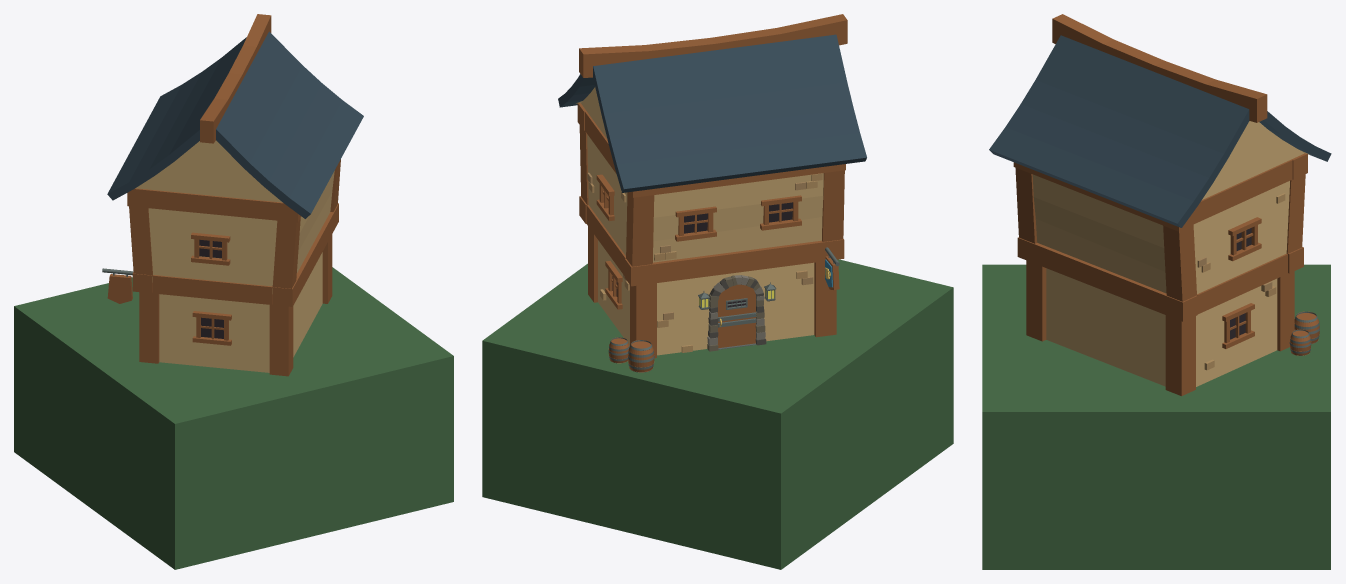
File: Tavern.glb
3 views of the same model, side by side, from view 1: azimuth 30°, elevation 25°; view 2: azimuth 150°, elevation 25°; view 3: azimuth 270°, elevation 25° (orthographic). The views are drawn at different scales.
Visible parts, largest first — view 1: tile, Cube.059, Cube.055, Cube, Cube.001, Cube.056, Cube.057, Cube.060, Cube.002, Cube.003, Cube.058, Cube.063; view 2: tile, Cube.059, Cube.055, Cube, Cube.003, Cube.060, Cube.056, Cube.001, Cube.004, Cube.058, Cube.002, Cube.094 (+3 smaller); view 3: tile, Cube.059, Cube.055, Cube, Cube.001, Cube.056, Cube.003, Cube.060, Cube.057, Cube.002, Cube.058.
Part boxes in pixels (left/top/right/bottom): tile: left=14, top=267, right=453, bottom=569; Cube.059: left=107, top=31, right=363, bottom=218; Cube.055: left=136, top=140, right=334, bottom=293; Cube: left=159, top=252, right=322, bottom=372; Cube.001: left=139, top=234, right=332, bottom=376; Cube.056: left=129, top=159, right=340, bottom=288; Cube.057: left=146, top=189, right=278, bottom=220; Cube.060: left=200, top=14, right=271, bottom=143; Cube.002: left=153, top=275, right=272, bottom=304; Cube.003: left=132, top=203, right=338, bottom=306; Cube.058: left=127, top=188, right=301, bottom=222; Cube.063: left=107, top=273, right=132, bottom=303; tile: left=482, top=259, right=953, bottom=569; Cube.059: left=558, top=34, right=866, bottom=192; Cube.055: left=576, top=87, right=823, bottom=262; Cube: left=598, top=240, right=814, bottom=355; Cube.003: left=579, top=196, right=844, bottom=286; Cube.060: left=579, top=14, right=847, bottom=77; Cube.056: left=579, top=125, right=844, bottom=266; Cube.001: left=588, top=226, right=836, bottom=358; Cube.004: left=717, top=284, right=755, bottom=348; Cube.058: left=577, top=103, right=845, bottom=197; Cube.002: left=586, top=205, right=625, bottom=275; Cube.094: left=684, top=202, right=792, bottom=233; tile: left=982, top=264, right=1330, bottom=569; Cube.059: left=989, top=35, right=1331, bottom=227; Cube.055: left=1032, top=121, right=1309, bottom=293; Cube: left=1046, top=268, right=1277, bottom=386; Cube.001: left=1026, top=260, right=1294, bottom=396; Cube.056: left=1015, top=167, right=1305, bottom=301; Cube.003: left=1017, top=237, right=1303, bottom=321; Cube.060: left=1052, top=14, right=1267, bottom=122; Cube.057: left=1193, top=159, right=1292, bottom=223; Cube.002: left=1197, top=254, right=1287, bottom=314; Cube.058: left=1013, top=153, right=1307, bottom=231.
Size of the model in its own units: 2 by 2.79 by 2.
